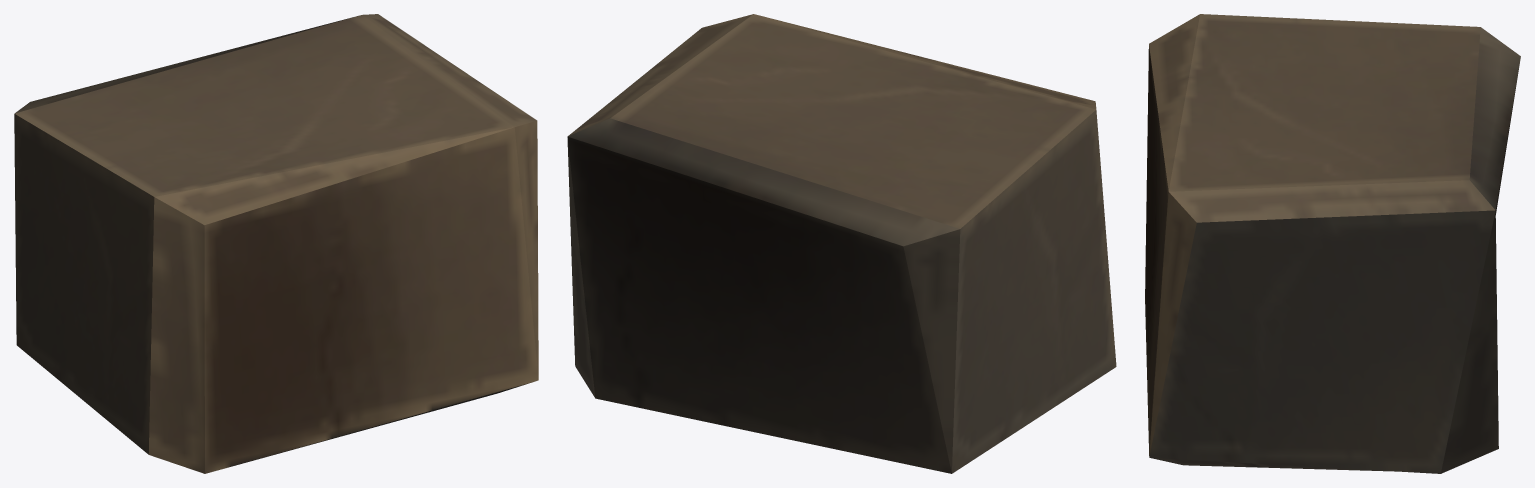
The model's file is SM_EgyptianBlock1x1x1.fbx.
3 renders of one model, left to right at view 1: azimuth 30°, elevation 25°; view 2: azimuth 150°, elevation 25°; view 3: azimuth 270°, elevation 25°, orthographic. The views are drawn at different scales.
Visible parts, largest first — view 1: Object001; view 2: Object001; view 3: Object001.
Boxes of the visible parts, x1,y1,x2,y2 form: Object001: [14, 14, 538, 473]; Object001: [567, 14, 1116, 473]; Object001: [1145, 14, 1520, 473].
Size of the model in its own units: 17.49 by 11.88 by 13.82.
